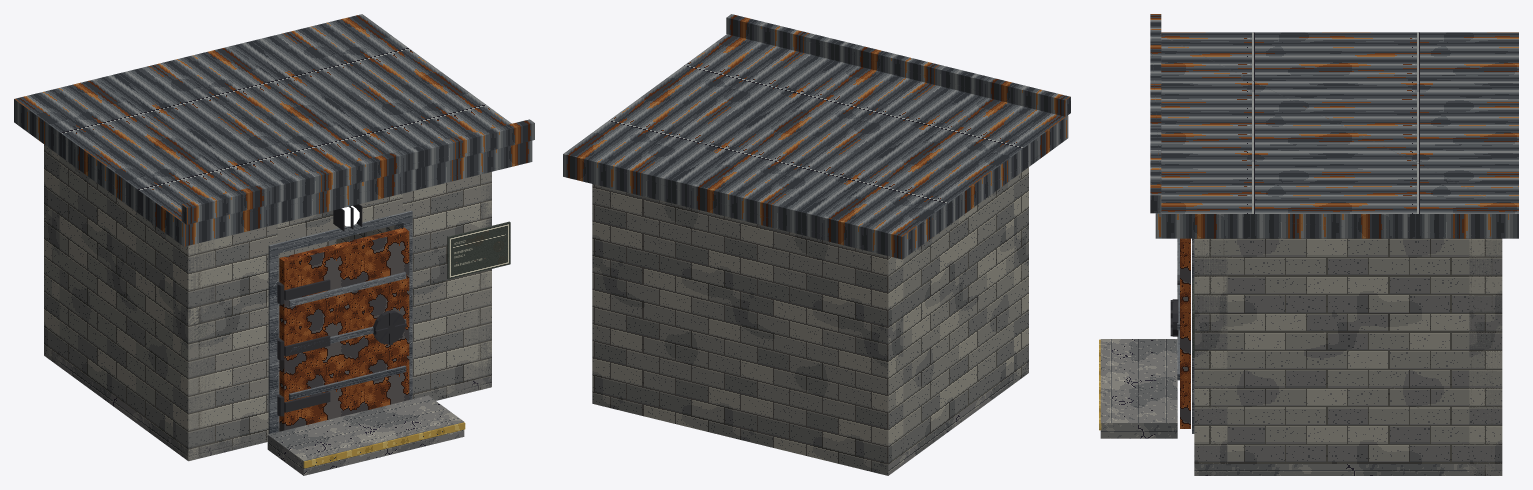
File: DST_PassageHut.glb
The picture shows the model from 3 angles, left to right: view 1: azimuth 30°, elevation 25°; view 2: azimuth 150°, elevation 25°; view 3: azimuth 270°, elevation 25°; orthographic projection. The views are drawn at different scales.
Parts seen in each view (by area): view 1: Roof, SideL, FrontL, Leaf, FrontR, Parapet, Step, Back, Floor, Plate, SideR, FrontTop (+6 smaller); view 2: Back, Roof, SideL, Parapet, FrontL, Floor; view 3: Roof, SideR, Back, Step, FrontR, Floor, Parapet, Leaf.
Part boxes in pixels (bbox=[...]): Roof: bbox=[14, 14, 532, 246]; SideL: bbox=[59, 156, 215, 460]; FrontL: bbox=[173, 224, 277, 460]; Leaf: bbox=[279, 227, 409, 431]; FrontR: bbox=[387, 172, 491, 400]; Parapet: bbox=[181, 119, 534, 224]; Step: bbox=[267, 395, 464, 475]; Back: bbox=[44, 144, 336, 366]; Floor: bbox=[45, 304, 491, 460]; Plate: bbox=[447, 221, 510, 279]; SideR: bbox=[336, 172, 491, 392]; FrontTop: bbox=[277, 193, 402, 242]; Back: bbox=[592, 184, 903, 475]; Roof: bbox=[563, 34, 1068, 259]; SideL: bbox=[903, 178, 1013, 453]; Parapet: bbox=[726, 14, 1070, 116]; FrontL: bbox=[1014, 167, 1028, 383]; Floor: bbox=[888, 362, 1028, 475]; Roof: bbox=[1155, 32, 1518, 238]; SideR: bbox=[1194, 238, 1502, 471]; Back: bbox=[1469, 238, 1502, 475]; Step: bbox=[1100, 339, 1177, 438]; FrontR: bbox=[1194, 238, 1227, 475]; Floor: bbox=[1194, 464, 1502, 475]; Parapet: bbox=[1150, 14, 1161, 213]; Leaf: bbox=[1180, 238, 1190, 428].
Bounding box in the file's own units: 3.9 × 2.93 × 3.81.
Materials: 9 (7 with a texture image).
